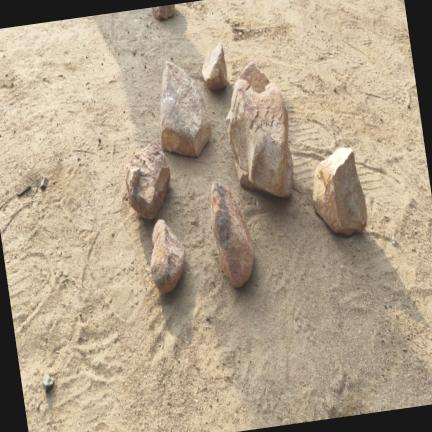Rocks: (225, 62, 292, 197), (160, 62, 210, 157), (312, 148, 366, 235), (210, 182, 253, 287), (125, 142, 169, 219), (150, 220, 184, 293), (201, 44, 226, 90), (238, 61, 268, 93), (152, 5, 174, 20), (42, 374, 53, 393), (39, 177, 47, 190), (391, 236, 395, 245)
